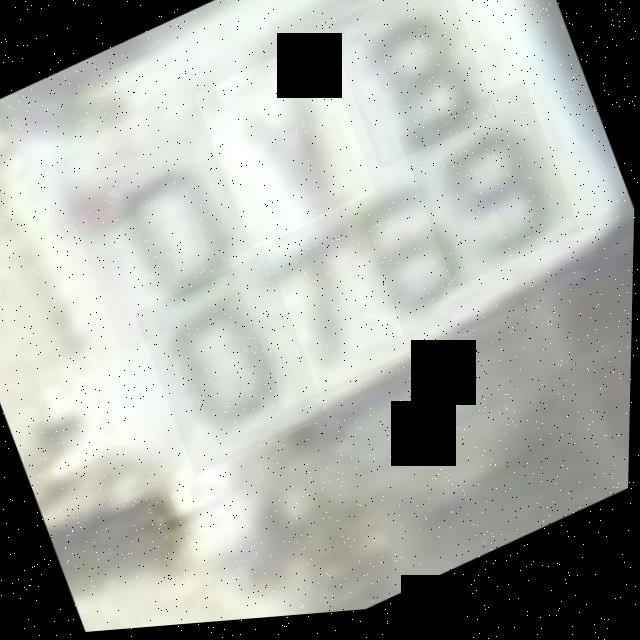6: (305, 141, 496, 368)
7: (227, 202, 415, 418)
9: (397, 84, 584, 300)
B: (325, 0, 501, 180)
O: (58, 117, 274, 359), (133, 252, 332, 483)
Y: (192, 39, 380, 258)
